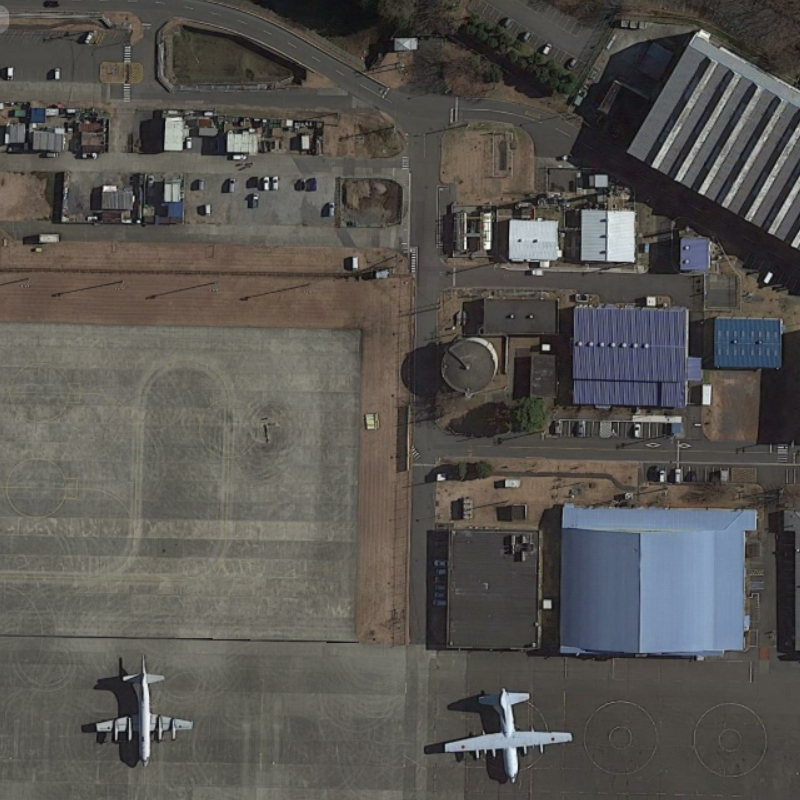A2: (437, 680, 582, 789)
A9: (78, 656, 209, 773)
